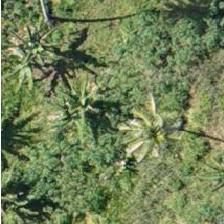coconut_tree: (112, 88, 202, 178), (0, 7, 84, 97)
